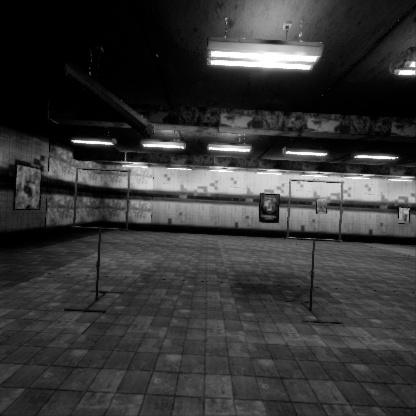gate: (73, 184, 136, 249), (286, 173, 349, 237)
